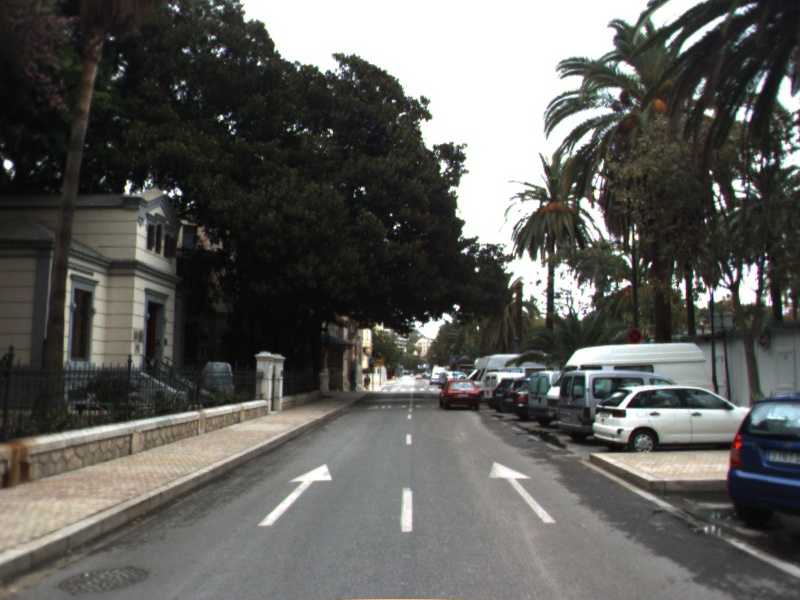STRAIGHT: (256, 462, 334, 528), (487, 460, 559, 526)
